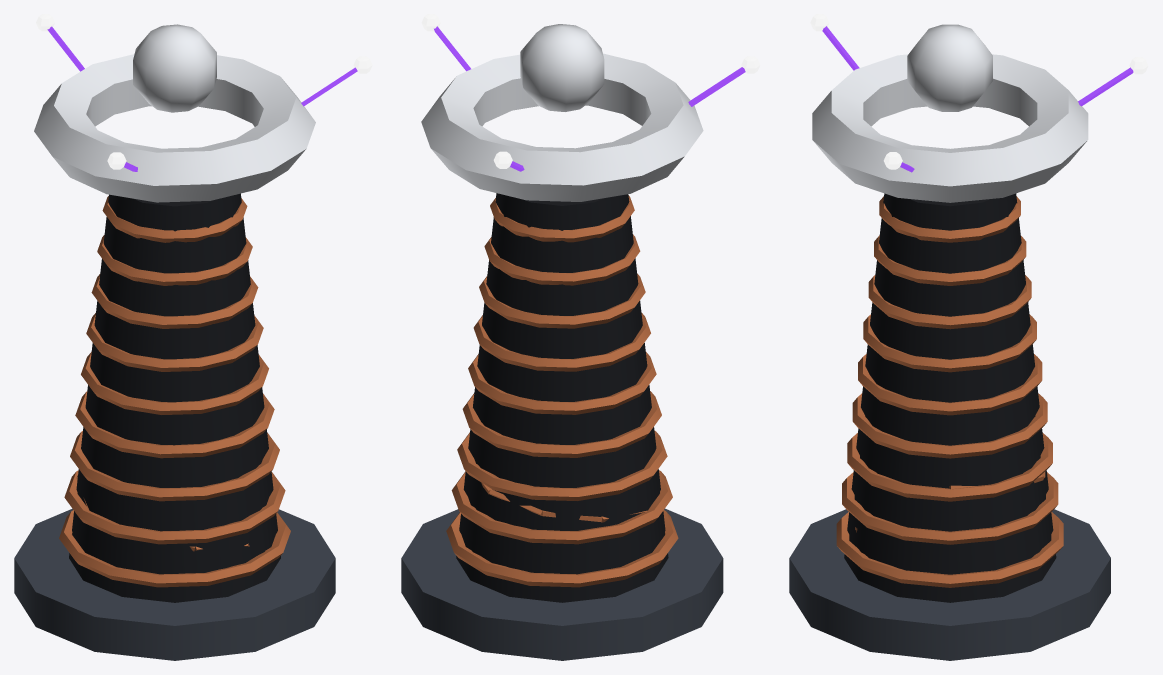
File: coil_discharge_coil_tower.glb
3 views of the same model, side by side, from view 1: azimuth 30°, elevation 25°; view 2: azimuth 150°, elevation 25°; view 3: azimuth 270°, elevation 25° (orthographic).
Visible parts, largest first — view 1: coil_discharge_coil_tower; view 2: coil_discharge_coil_tower; view 3: coil_discharge_coil_tower.
Boxes of the visible parts, <box> form: coil_discharge_coil_tower: <box>14,14,372,660</box>; coil_discharge_coil_tower: <box>401,14,760,660</box>; coil_discharge_coil_tower: <box>789,14,1148,660</box>.
Size of the model in its own units: 1.1 by 1.94 by 1.12.
